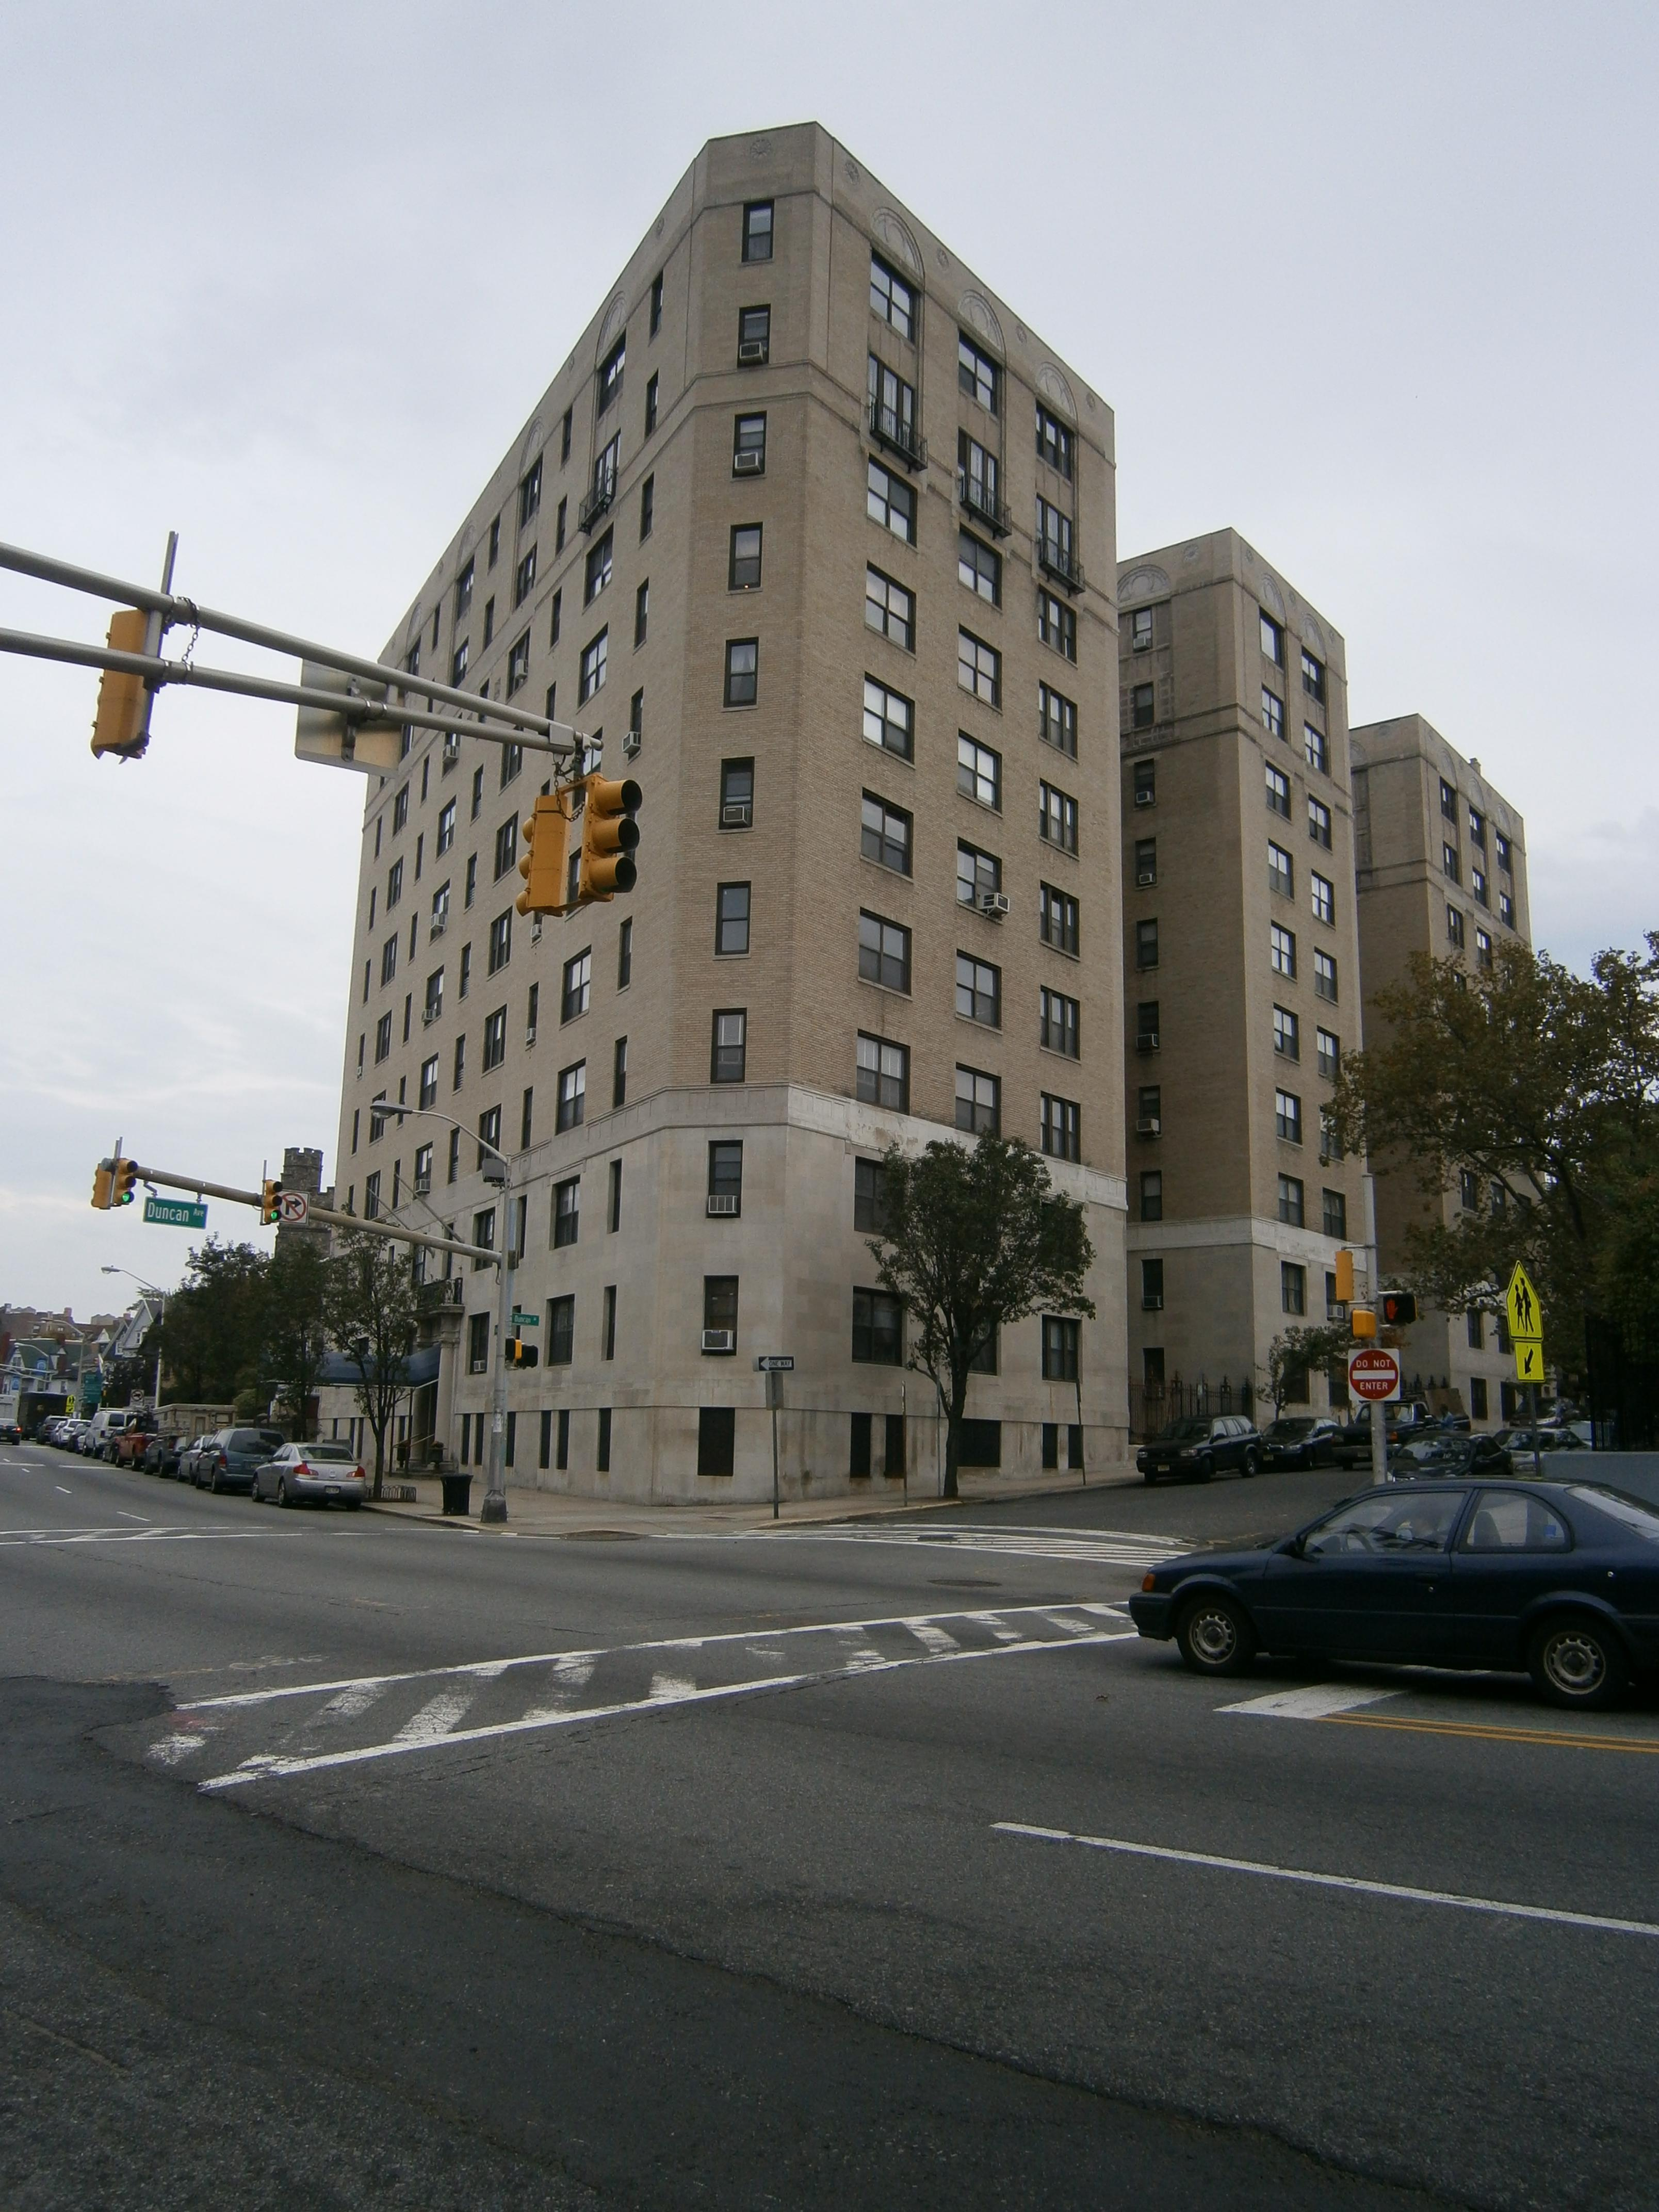affected: (281, 122, 1188, 1554)
